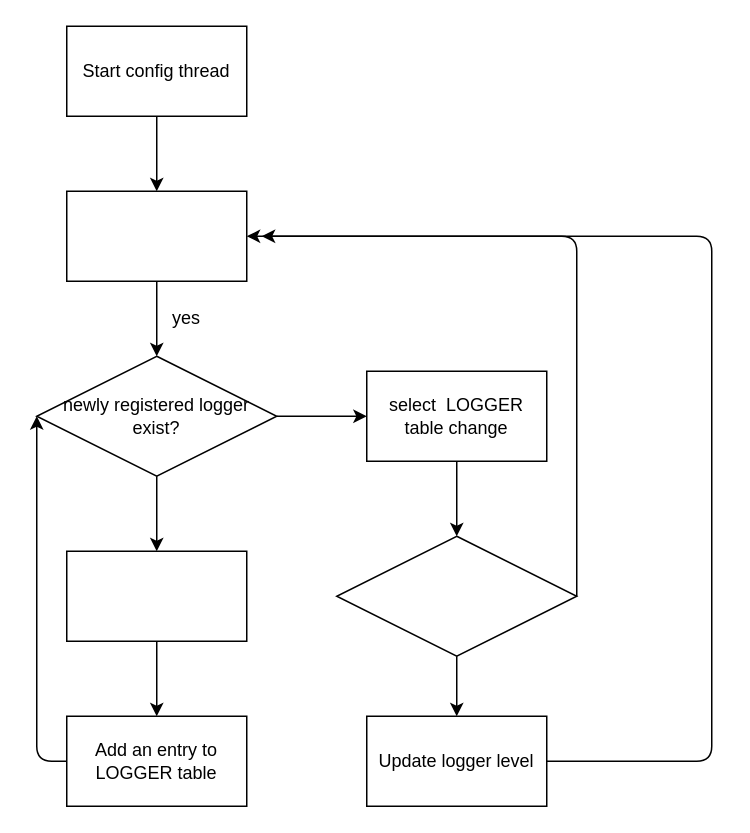
Some shapes in this 750 by 833 pixel diagram are drawn without their labels. The centre of each missing label's shape, as x and y in pixels:
Check register queue: the point at 156,235
LOGGER table changed?: the point at 456,595
Save to local map: the point at 156,595
